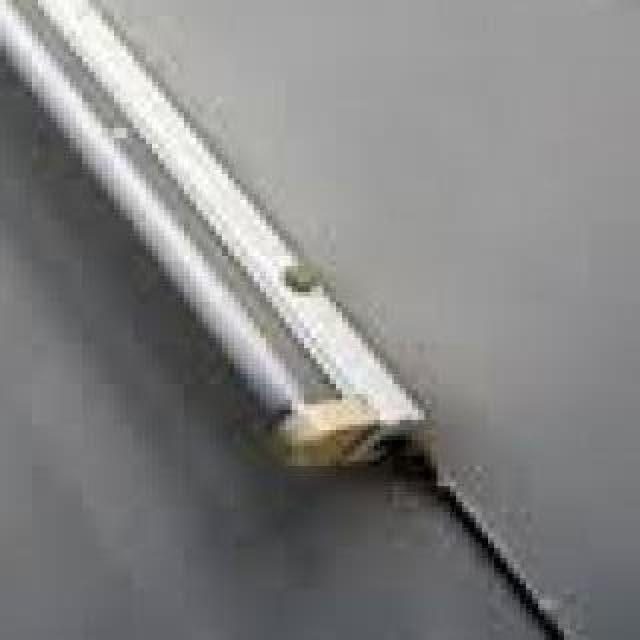fluorescent tube: (0, 0, 460, 492)
